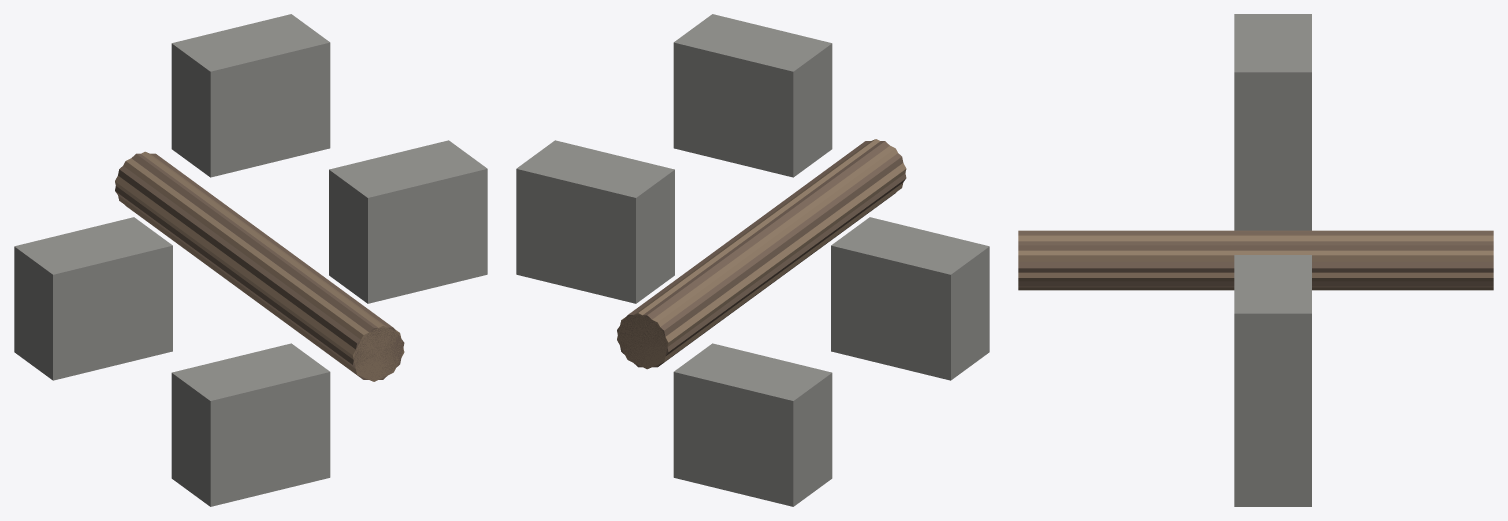
The model's file is SM_Campfire.glb.
3 views of the same model, side by side, from view 1: azimuth 30°, elevation 25°; view 2: azimuth 150°, elevation 25°; view 3: azimuth 270°, elevation 25° (orthographic).
Visible parts, largest first — view 1: SM_Campfire_part04, SM_Campfire_part05, SM_Campfire_part02, SM_Campfire_part03, SM_Campfire_part00, SM_Campfire_part01; view 2: SM_Campfire_part04, SM_Campfire_part05, SM_Campfire_part02, SM_Campfire_part03, SM_Campfire_part00, SM_Campfire_part01; view 3: SM_Campfire_part00, SM_Campfire_part01, SM_Campfire_part03, SM_Campfire_part05, SM_Campfire_part04, SM_Campfire_part02.
Part boxes in pixels (<box>): SM_Campfire_part04: <box>171,343,330,506</box>; SM_Campfire_part05: <box>171,14,330,177</box>; SM_Campfire_part02: <box>14,217,172,380</box>; SM_Campfire_part03: <box>329,140,487,303</box>; SM_Campfire_part00: <box>115,151,404,381</box>; SM_Campfire_part01: <box>115,153,404,379</box>; SM_Campfire_part04: <box>673,343,832,506</box>; SM_Campfire_part05: <box>673,14,832,177</box>; SM_Campfire_part02: <box>831,217,989,380</box>; SM_Campfire_part03: <box>516,140,674,303</box>; SM_Campfire_part00: <box>617,139,906,369</box>; SM_Campfire_part01: <box>617,141,906,367</box>; SM_Campfire_part00: <box>1018,230,1493,290</box>; SM_Campfire_part01: <box>1018,231,1493,287</box>; SM_Campfire_part03: <box>1234,255,1311,419</box>; SM_Campfire_part05: <box>1234,14,1311,177</box>; SM_Campfire_part04: <box>1234,419,1311,506</box>; SM_Campfire_part02: <box>1234,178,1311,230</box>.
Size of the model in its own units: 1.16 by 1.11 by 1.1.
